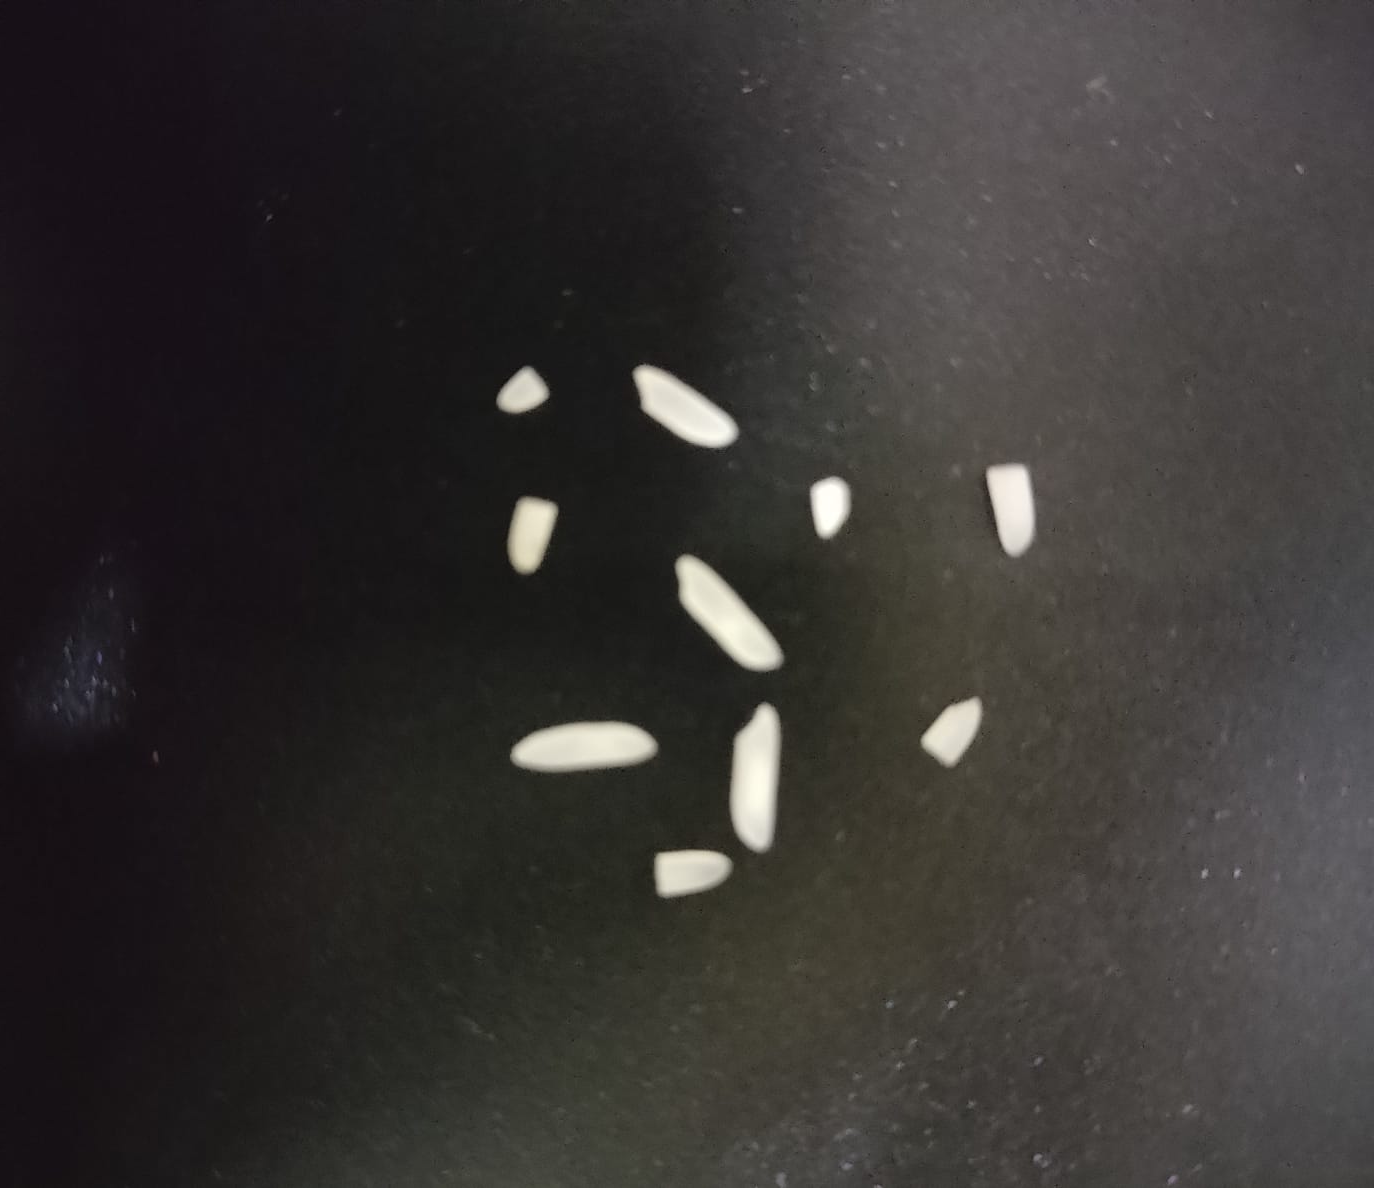broken_grain: (569, 691, 671, 759), (791, 335, 897, 397), (530, 292, 647, 342), (982, 549, 1043, 630), (546, 442, 626, 495), (418, 706, 483, 763)
complete_grain: (621, 502, 790, 611), (409, 534, 529, 648), (821, 613, 907, 755), (806, 507, 988, 564)
